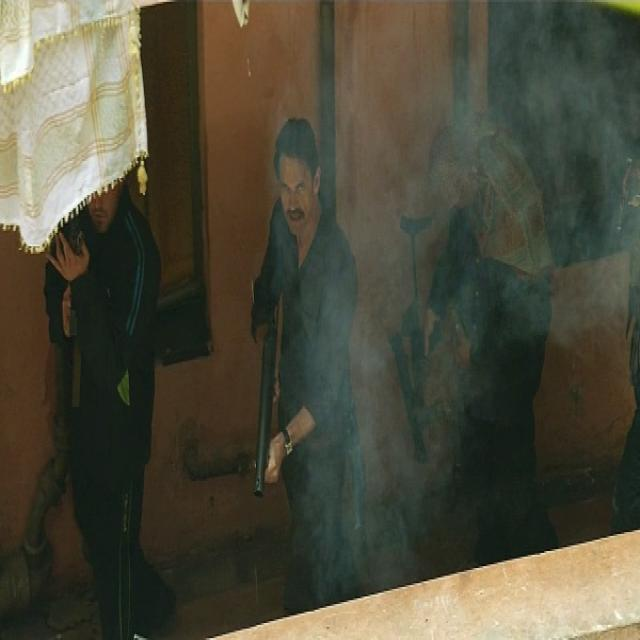rifle: (250, 277, 285, 511)
